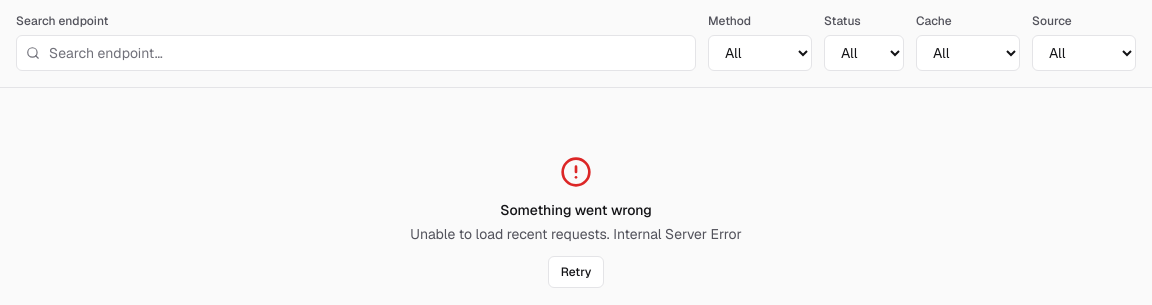
Test: RecentRequestsPanel › shows an error state with a working retry button on failure
Check: the message is shown, box top-left (410, 156), bottom-right (742, 288)
Check: the message shows "Unable to load recent requests.", box top-left (410, 225), bottom-right (742, 243)
Click the button "Retry".
click(576, 272)  # box top-left (548, 256), bottom-right (604, 288)
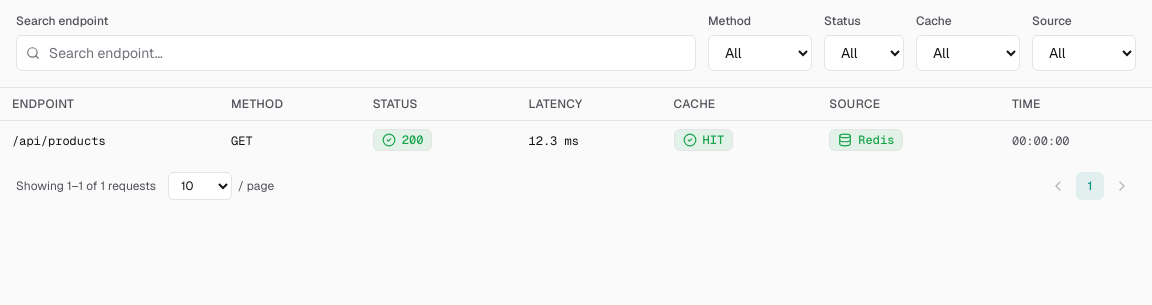
Check: the text "/api/products" is shown, box top-left (0, 120), bottom-right (219, 160)
